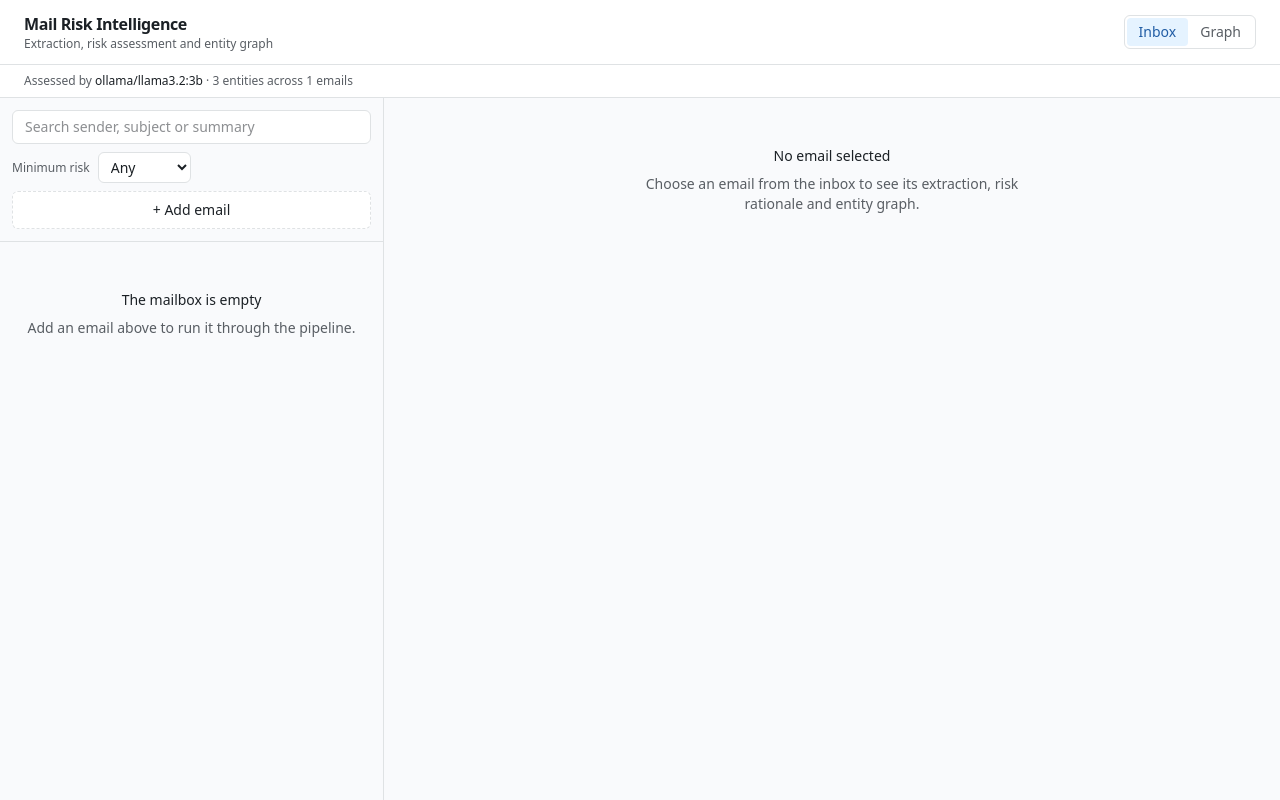
Test case: App › keeps the form open and shows why when a submission is rejected
This screenshot has width=1280, height=800.
Click the button "+ Add email" at x=192, y=210, box 12,191 -> 371,229
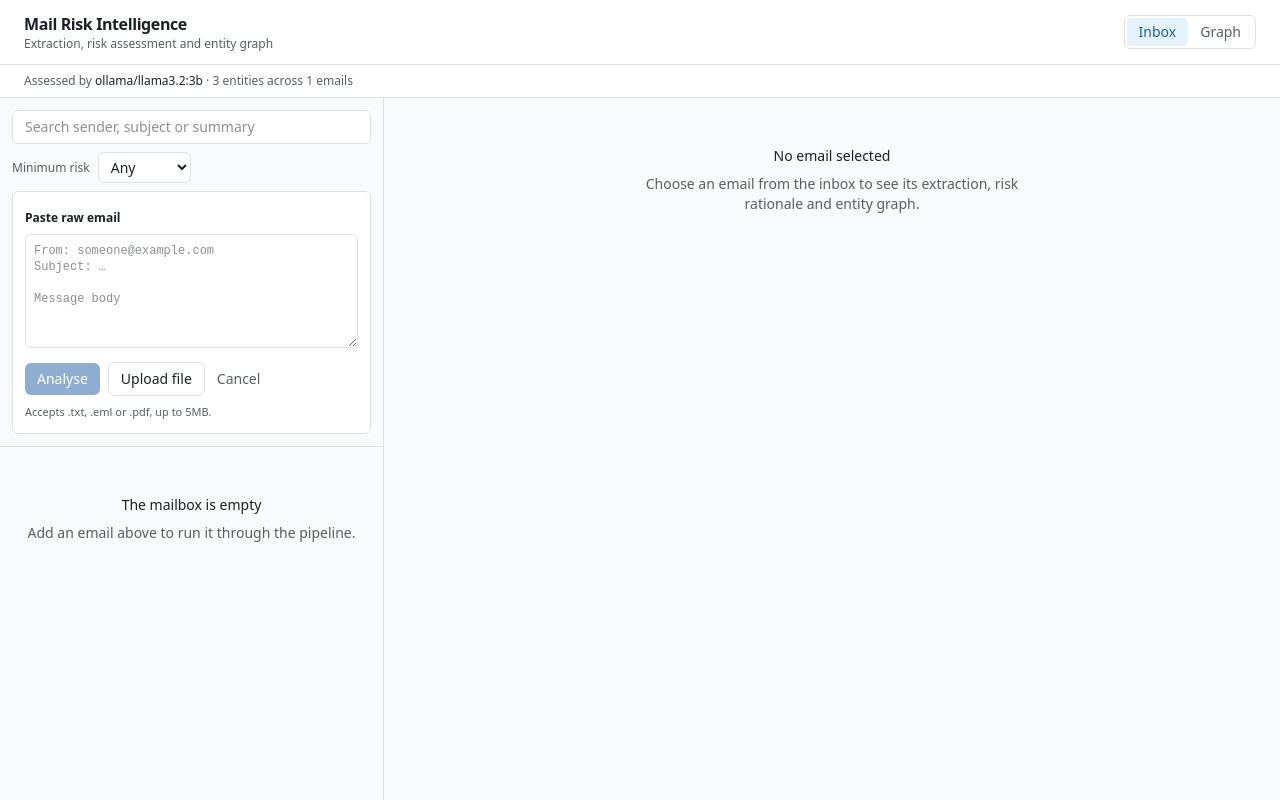
Type "x" into the text box labelled "Paste raw email" at x=192, y=291, box 25,234 -> 358,348
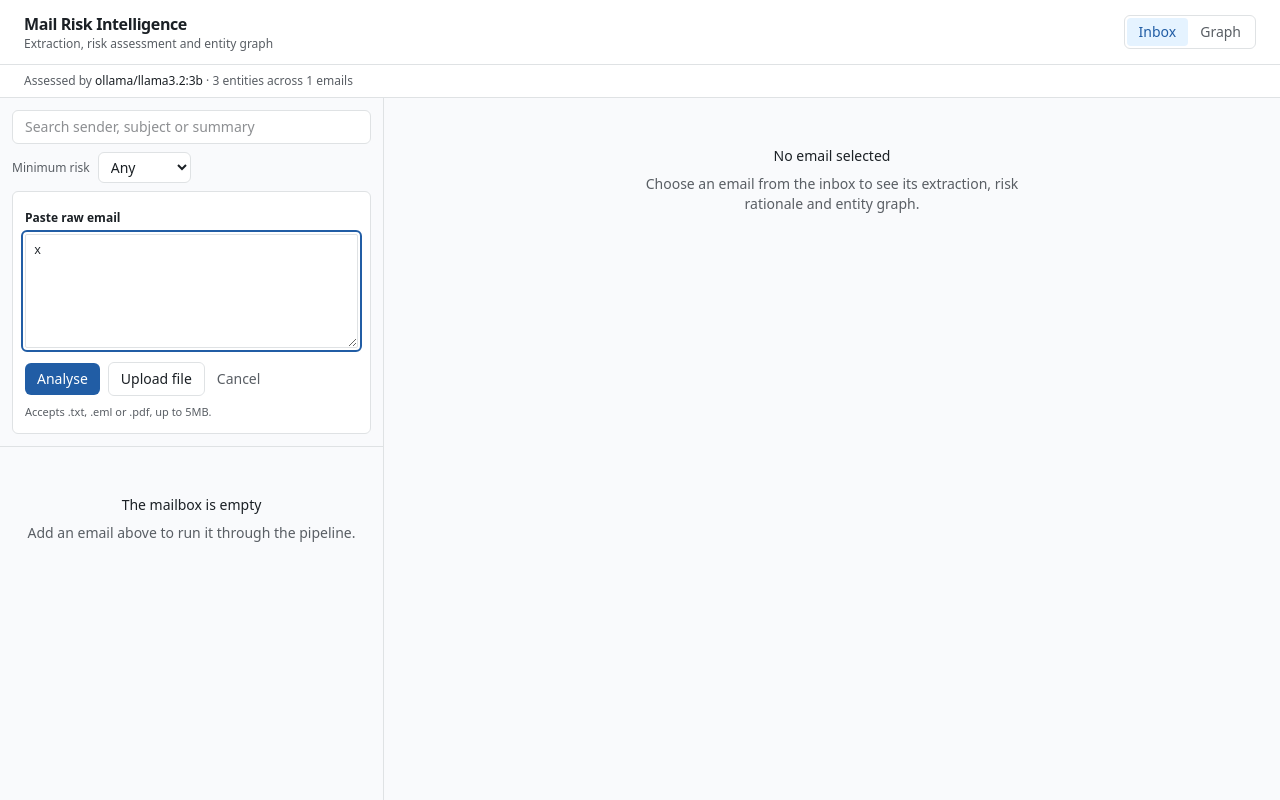
Click the button "Analyse" at x=62, y=379, box 25,363 -> 100,395
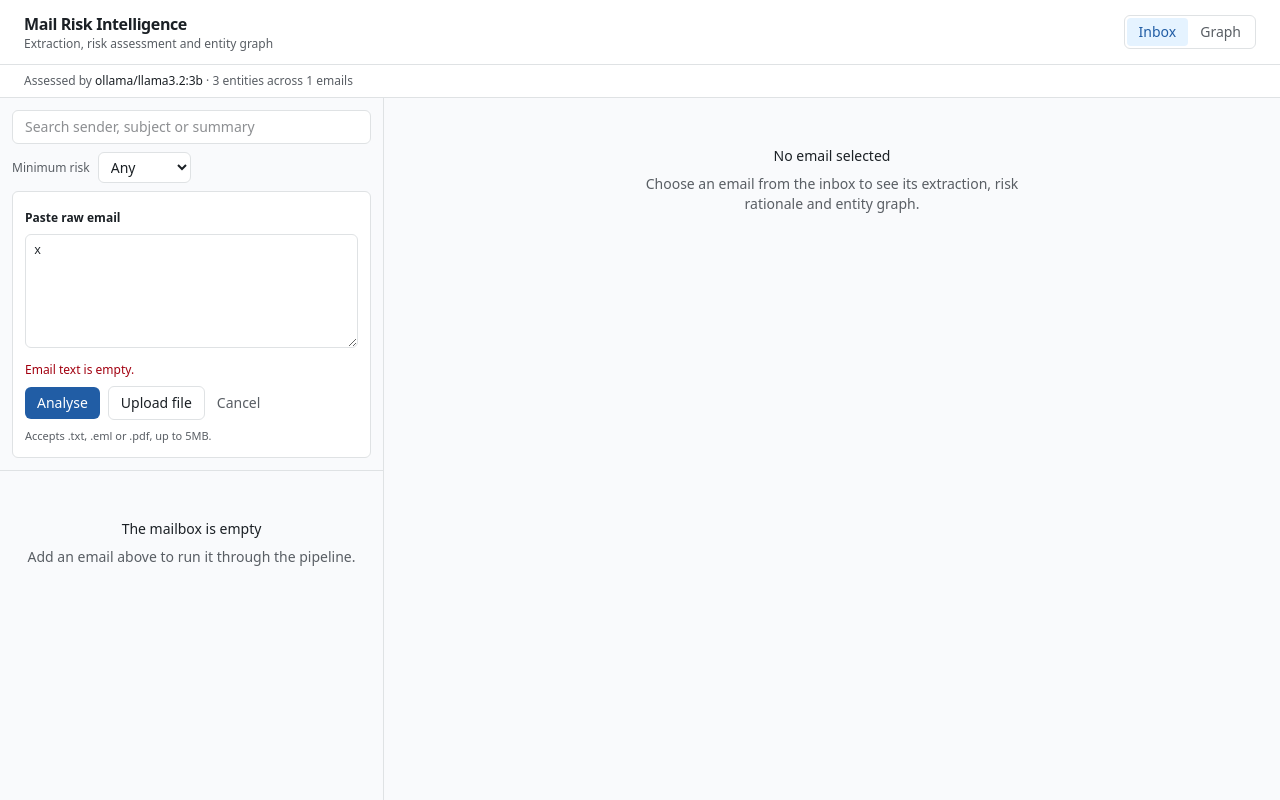
expect the text "Email text is empty." is shown: met, box 25,361 -> 134,378
